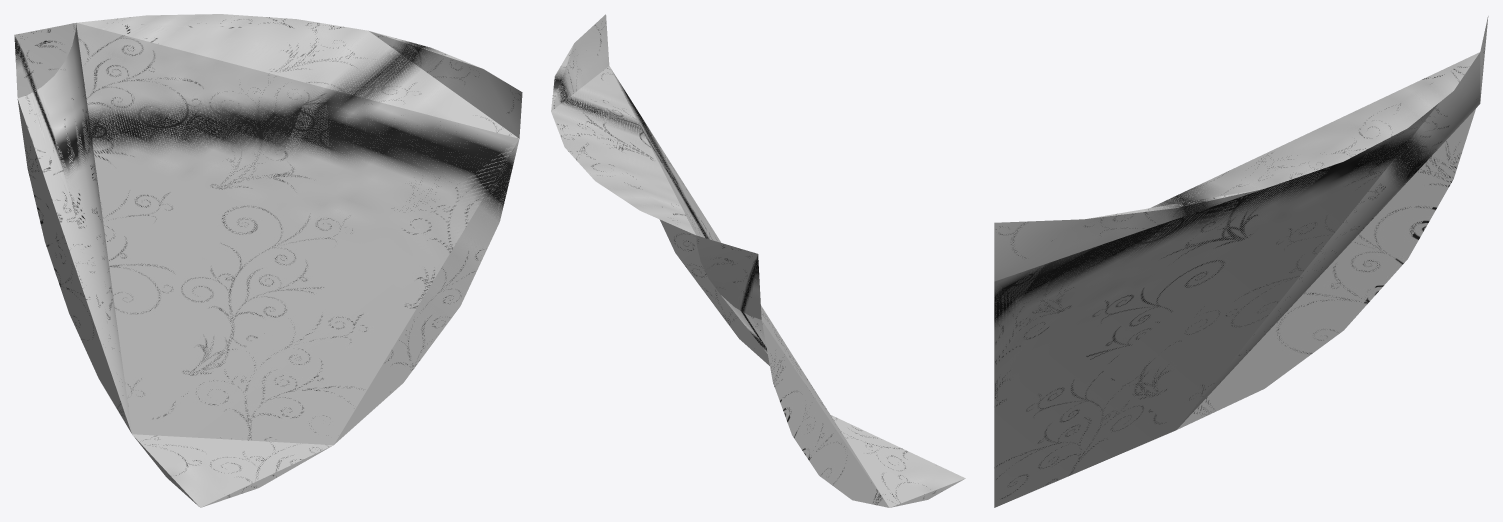
File: original-56.obj
3 renders of one model, left to right at view 1: azimuth 30°, elevation 25°; view 2: azimuth 150°, elevation 25°; view 3: azimuth 270°, elevation 25°, orthographic. The views are drawn at different scales.
Parts seen in each view (by area): view 1: mesh55/mesh55-geometry#mesh55-geometry; view 2: mesh55/mesh55-geometry#mesh55-geometry; view 3: mesh55/mesh55-geometry#mesh55-geometry.
Boxes of the visible parts, x1,y1,x2,y2 form: mesh55/mesh55-geometry#mesh55-geometry: (14,14,522,507); mesh55/mesh55-geometry#mesh55-geometry: (551,14,965,507); mesh55/mesh55-geometry#mesh55-geometry: (994,16,1488,507).
Size of the model in its own units: 0.0909 by 0.0909 by 0.0909.
